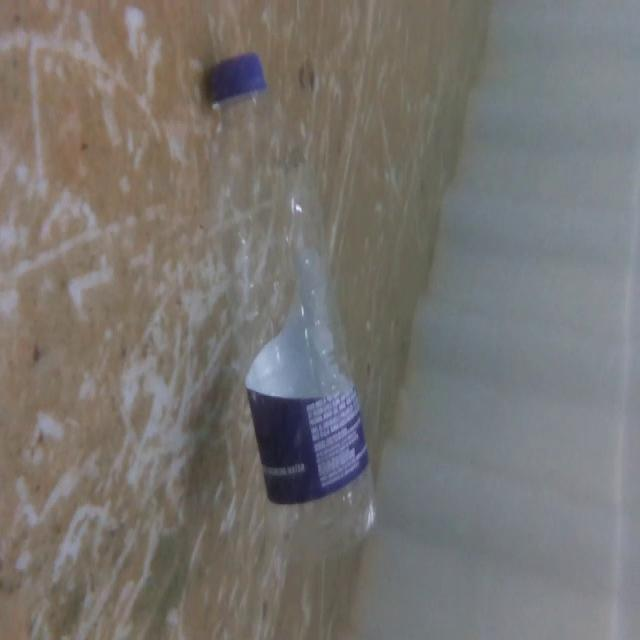plastic bottle: (186, 48, 390, 563)
